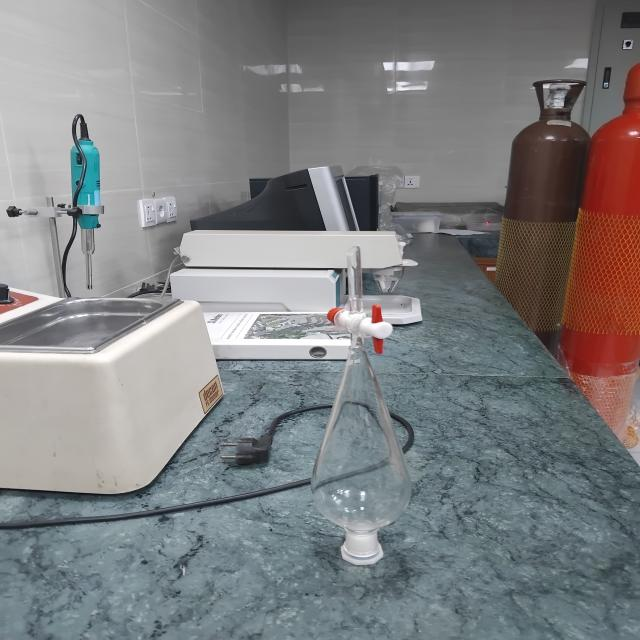Separating_Funnel: (269, 219, 457, 591)
